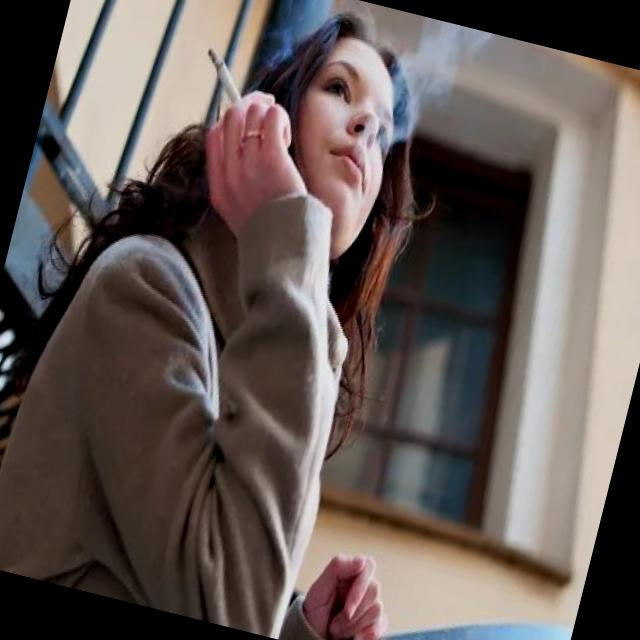cigarette: (195, 42, 258, 110)
